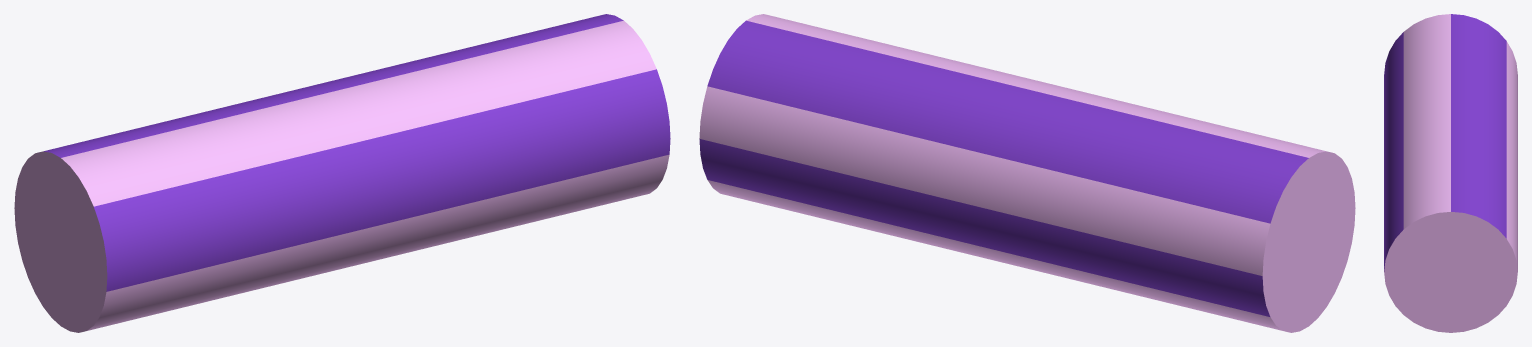
Rendered from BaseFloorVerySmall.fbx.
The picture shows the model from 3 angles, left to right: view 1: azimuth 30°, elevation 25°; view 2: azimuth 150°, elevation 25°; view 3: azimuth 270°, elevation 25°; orthographic projection. The views are drawn at different scales.
Parts seen in each view (by area): view 1: BaseFloorVerySmall; view 2: BaseFloorVerySmall; view 3: BaseFloorVerySmall.
Part boxes in pixels (left/top/right/bottom): BaseFloorVerySmall: left=14, top=14, right=670, bottom=332; BaseFloorVerySmall: left=699, top=14, right=1355, bottom=332; BaseFloorVerySmall: left=1384, top=14, right=1517, bottom=332.
Bounding box in the file's own units: 2.45 × 0.7 × 0.7.
1 material, 1 textured.
